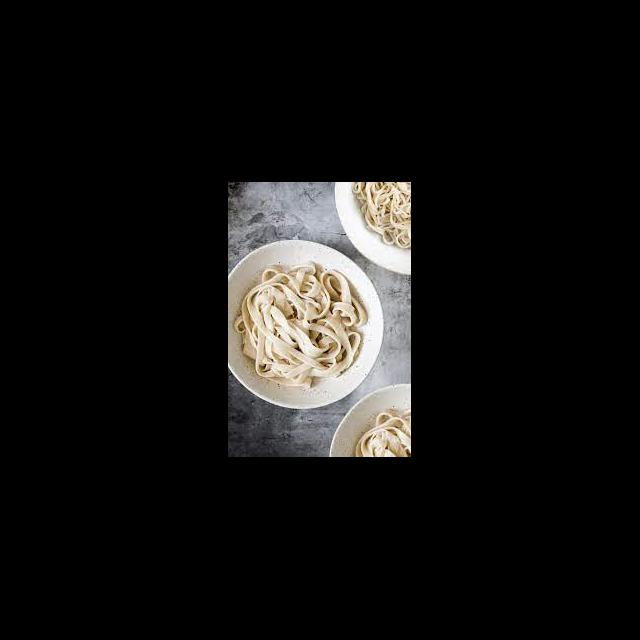noodles: (238, 264, 366, 386)
